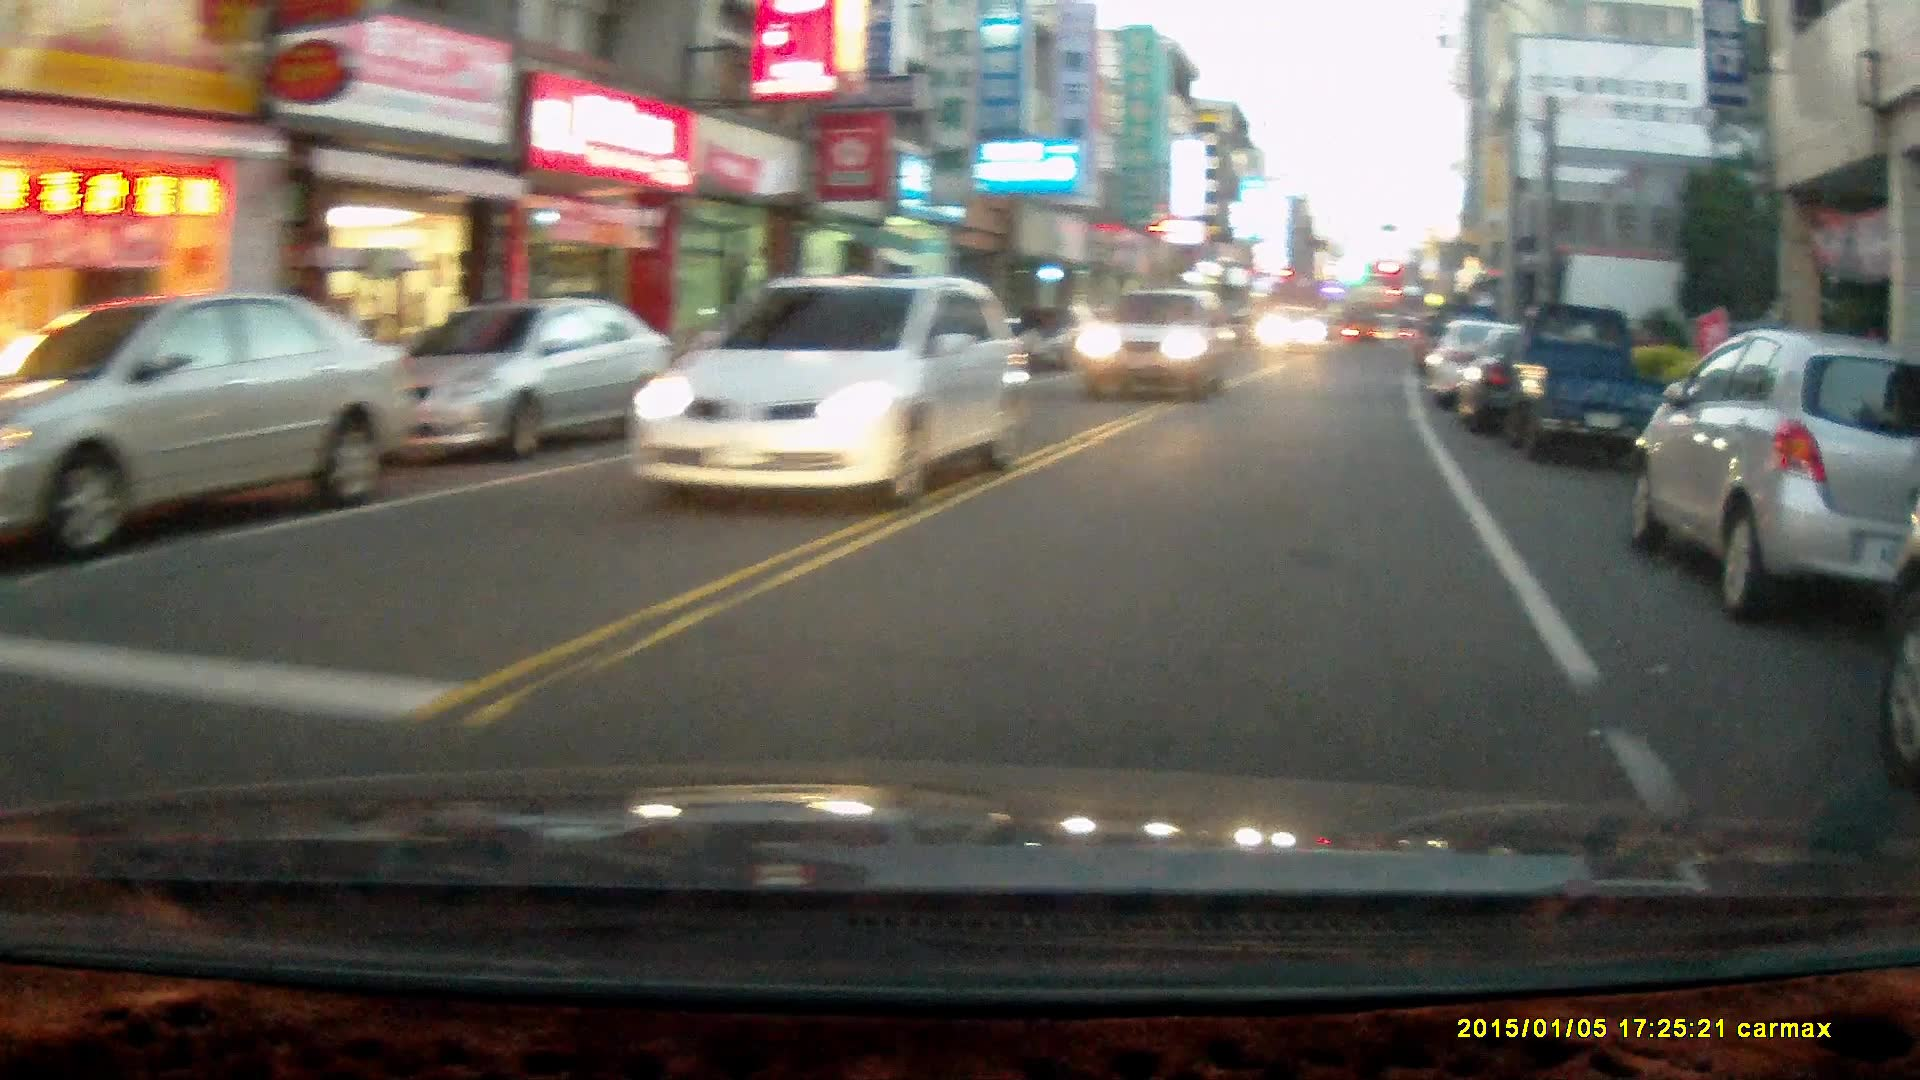vehicle: (4, 295, 425, 560), (618, 282, 1025, 518), (1617, 331, 1920, 633), (367, 301, 673, 469), (1491, 309, 1673, 471), (1073, 291, 1240, 407), (1422, 314, 1567, 414), (1254, 311, 1329, 361)
